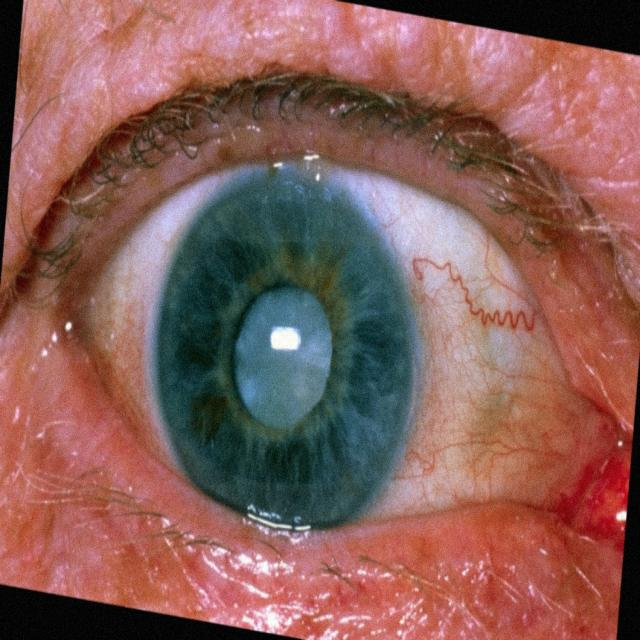Cataract: (106, 98, 437, 590)
